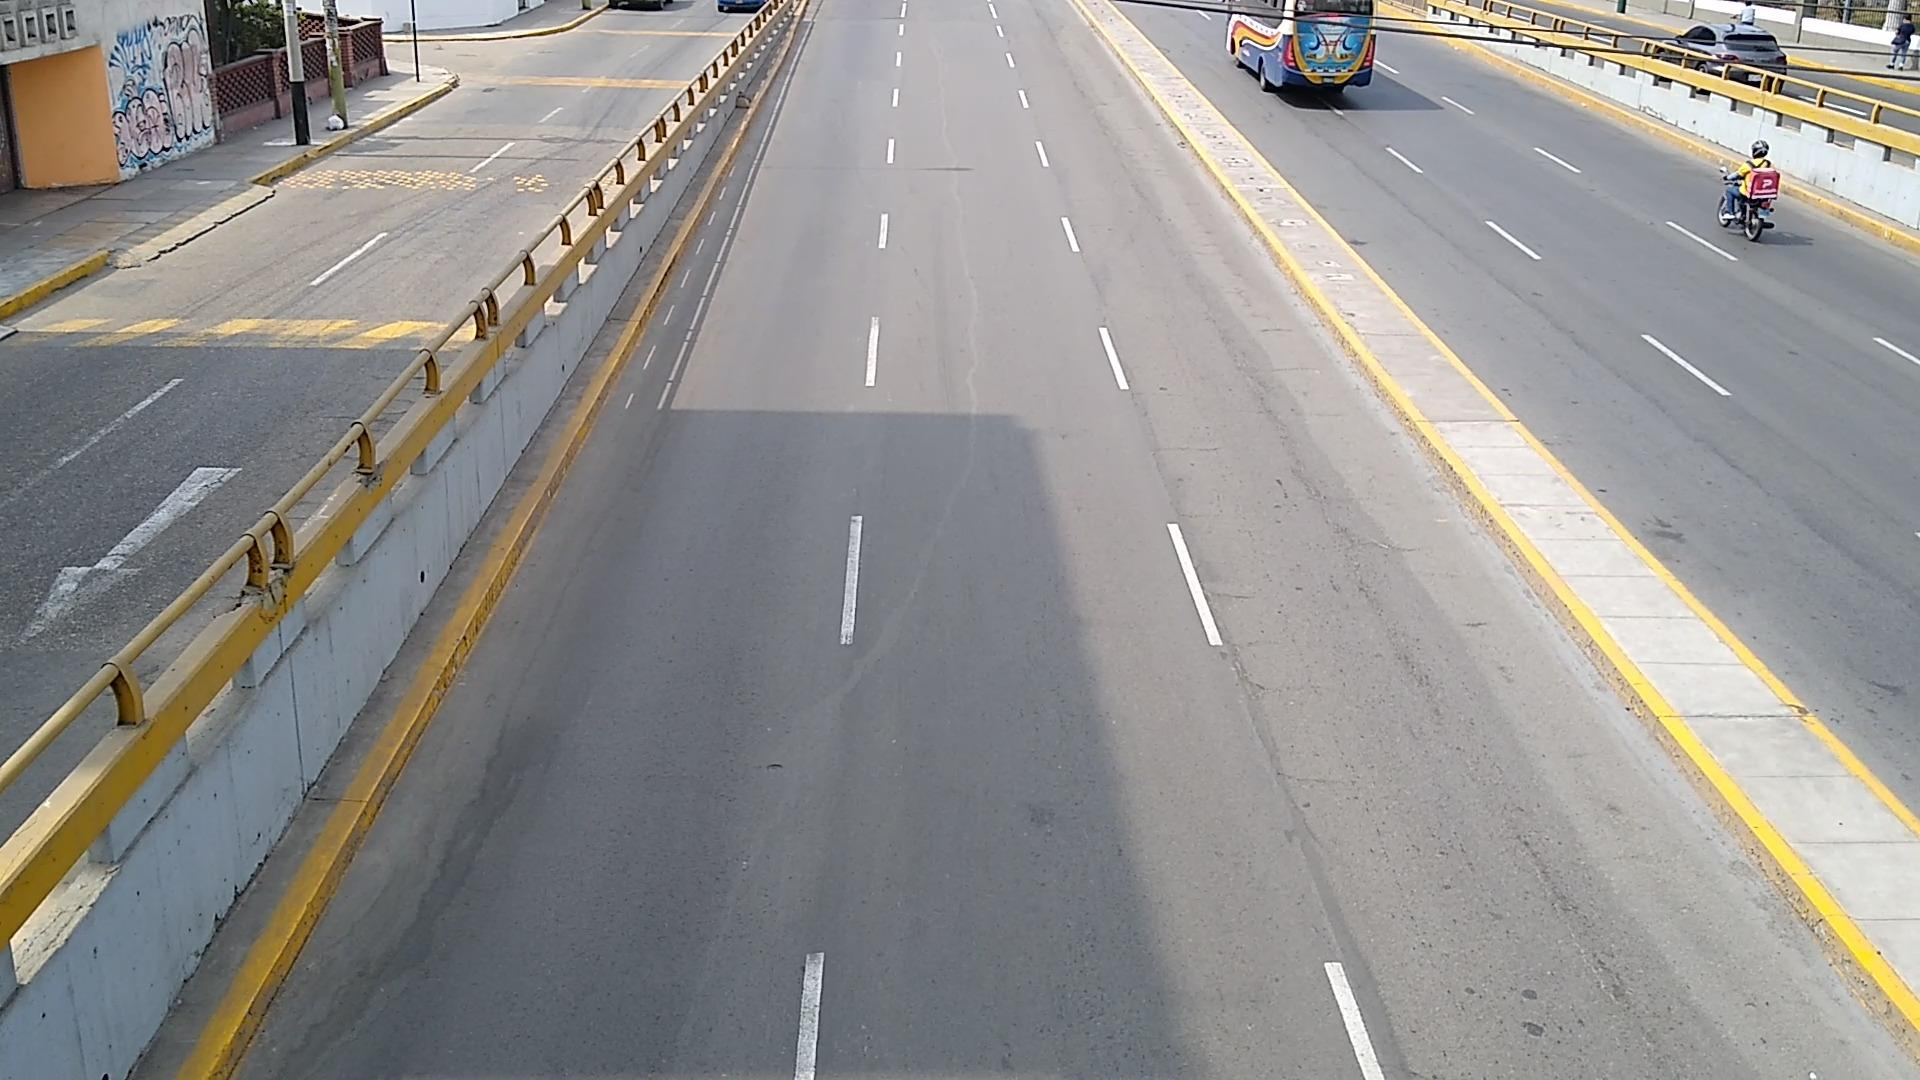bus: (1226, 0, 1377, 90)
car: (1672, 22, 1788, 75)
motorcycle: (1733, 165, 1782, 240), (1717, 206, 1729, 225)
motorcyclist: (1725, 138, 1770, 219)
